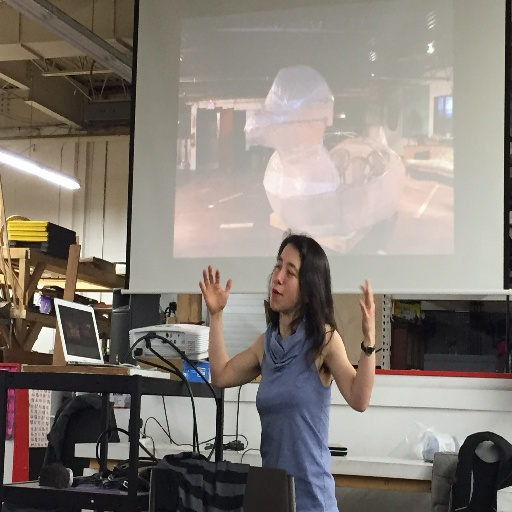hand: (195, 268, 233, 326), (358, 279, 374, 337)
